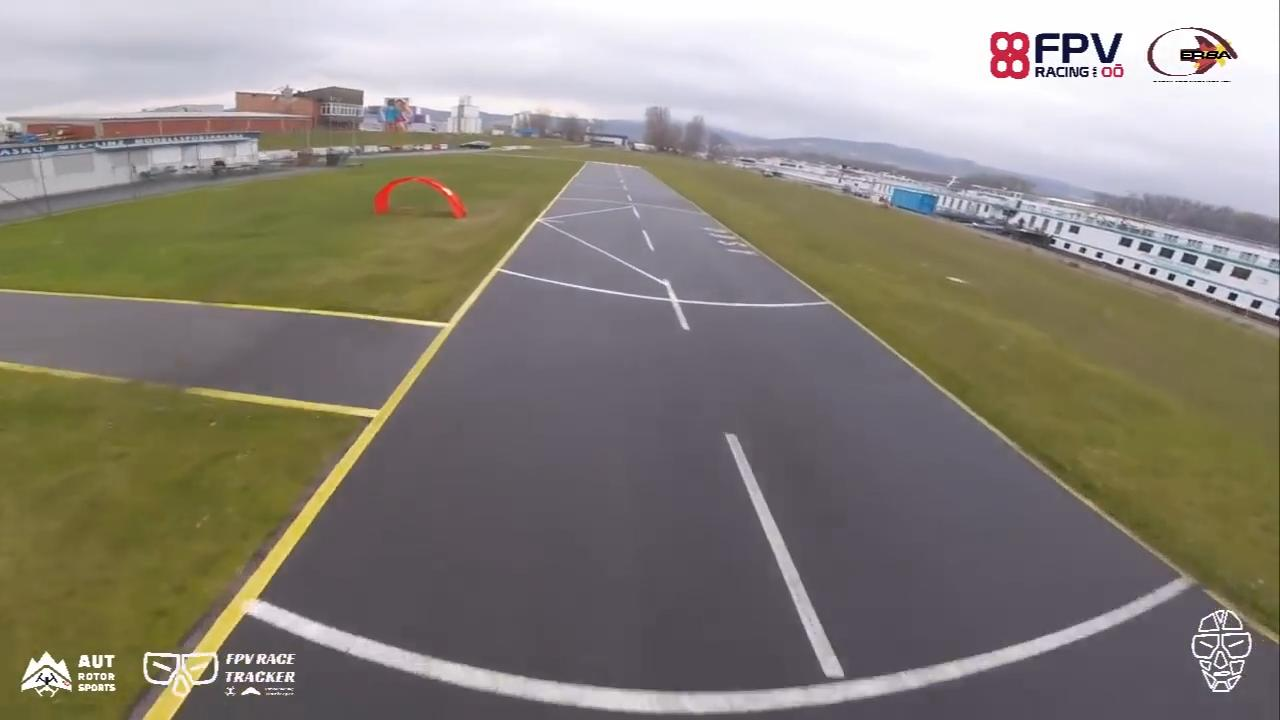gate: (374, 178, 464, 223)
